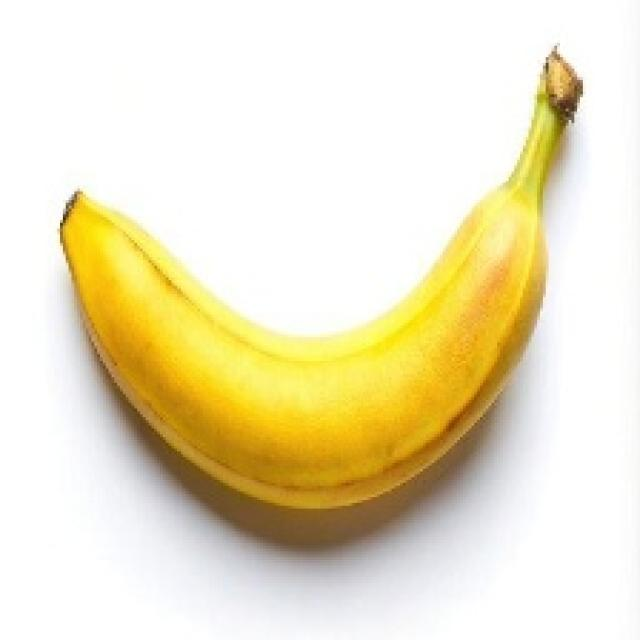Banana: (57, 40, 583, 511)
